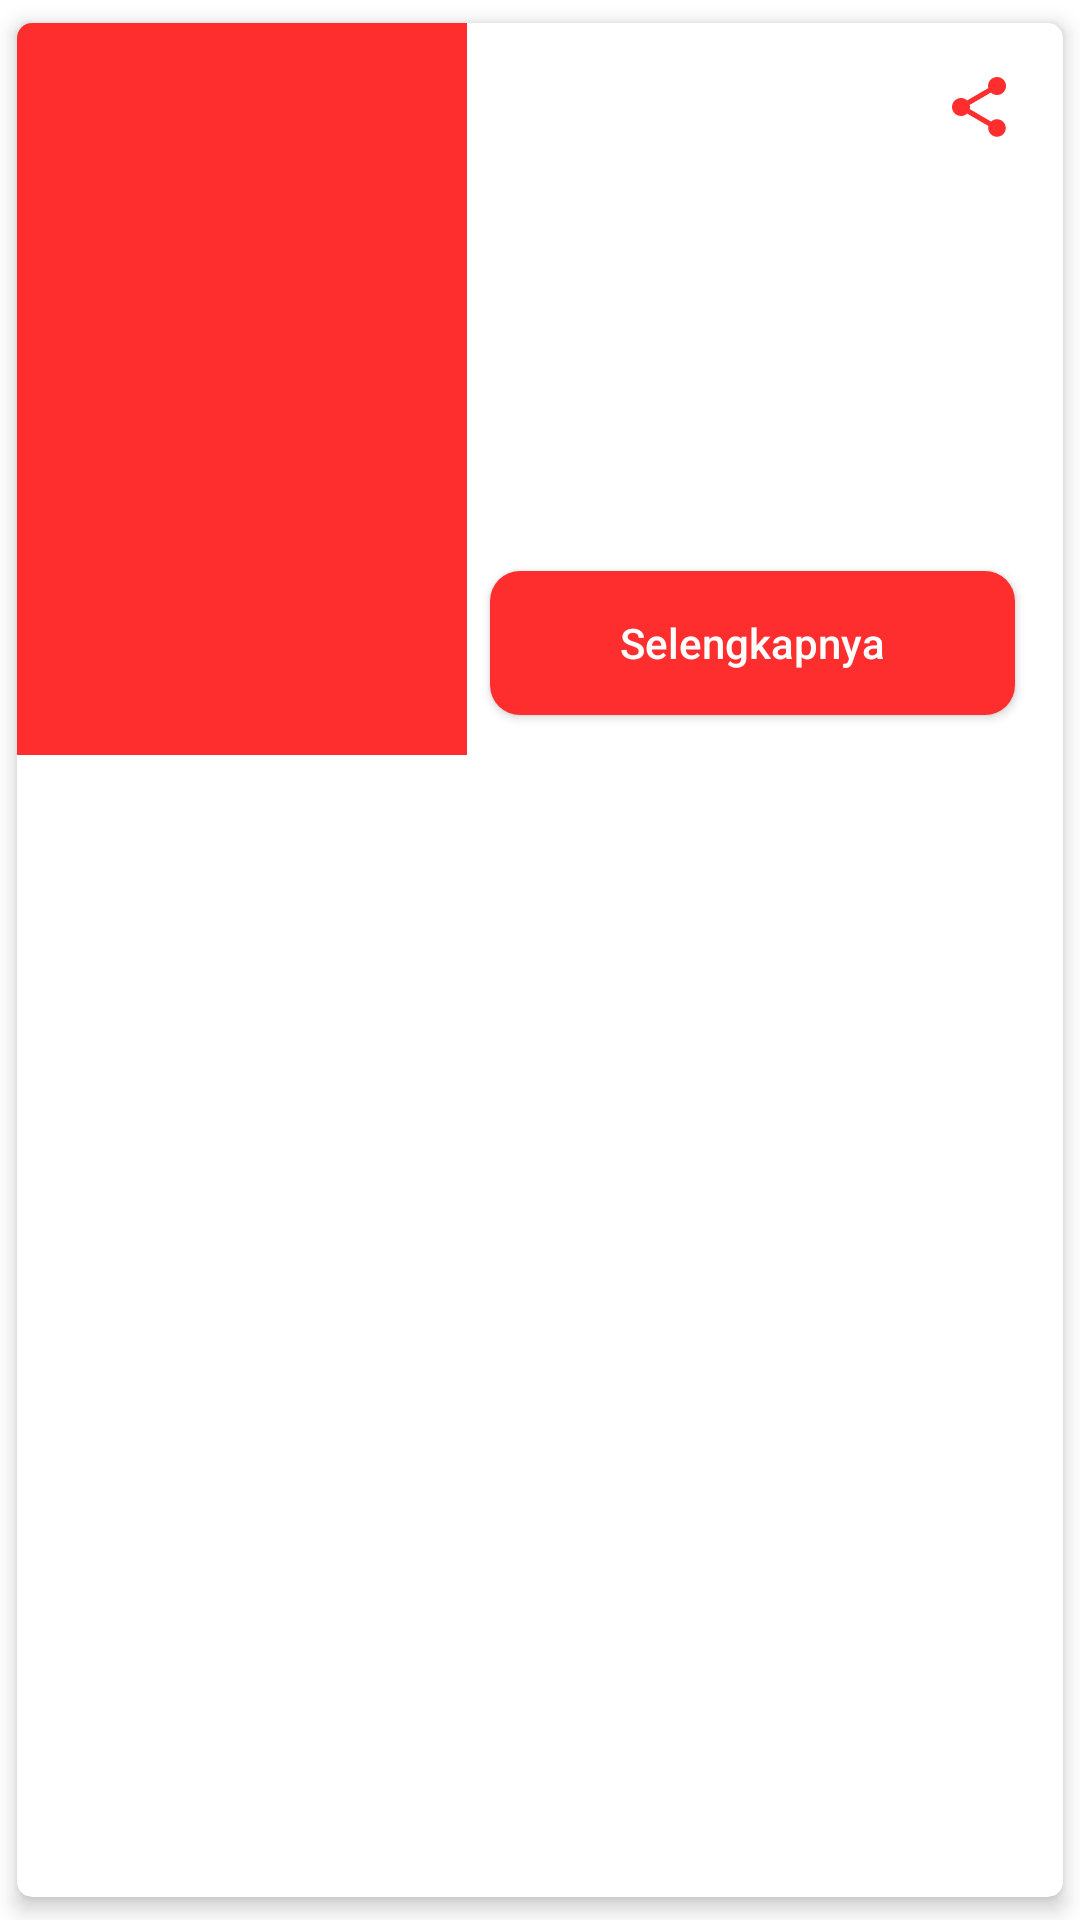

Named icons in this screenshot (1080×1920) and their bounding boxes, BBox(x1, y1, x2, y2):
Bagikan series ini ke teman mu!: BBox(952, 77, 1006, 137)
